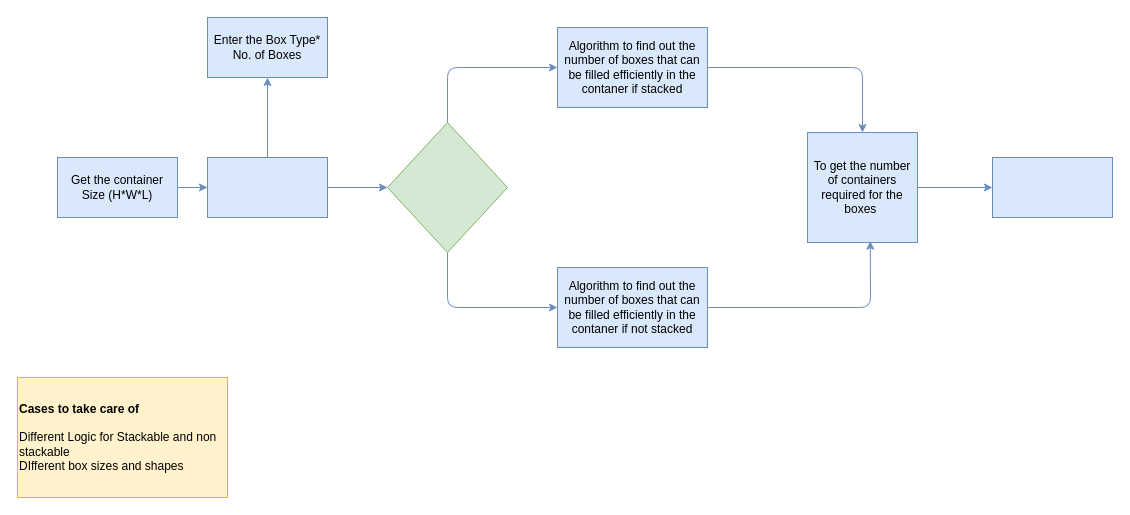
Image size: 1130x515. Some labels were removed from this diagram. Each missing label, with the centre of its shape:
"Condition for Stakcable and non Stackable" belongs at (447,187).
"Get the container size(H*W*L)" belongs at (267,187).
"Tp demonstrate the entire thing in a emersive UI" belongs at (1052,187).
